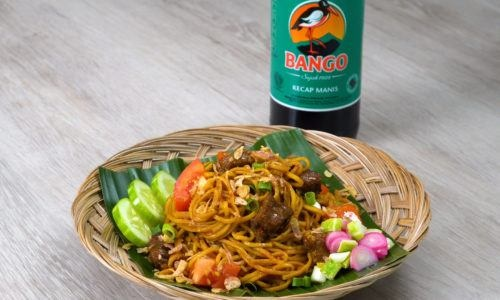mie_aceh: (170, 150, 359, 292)
